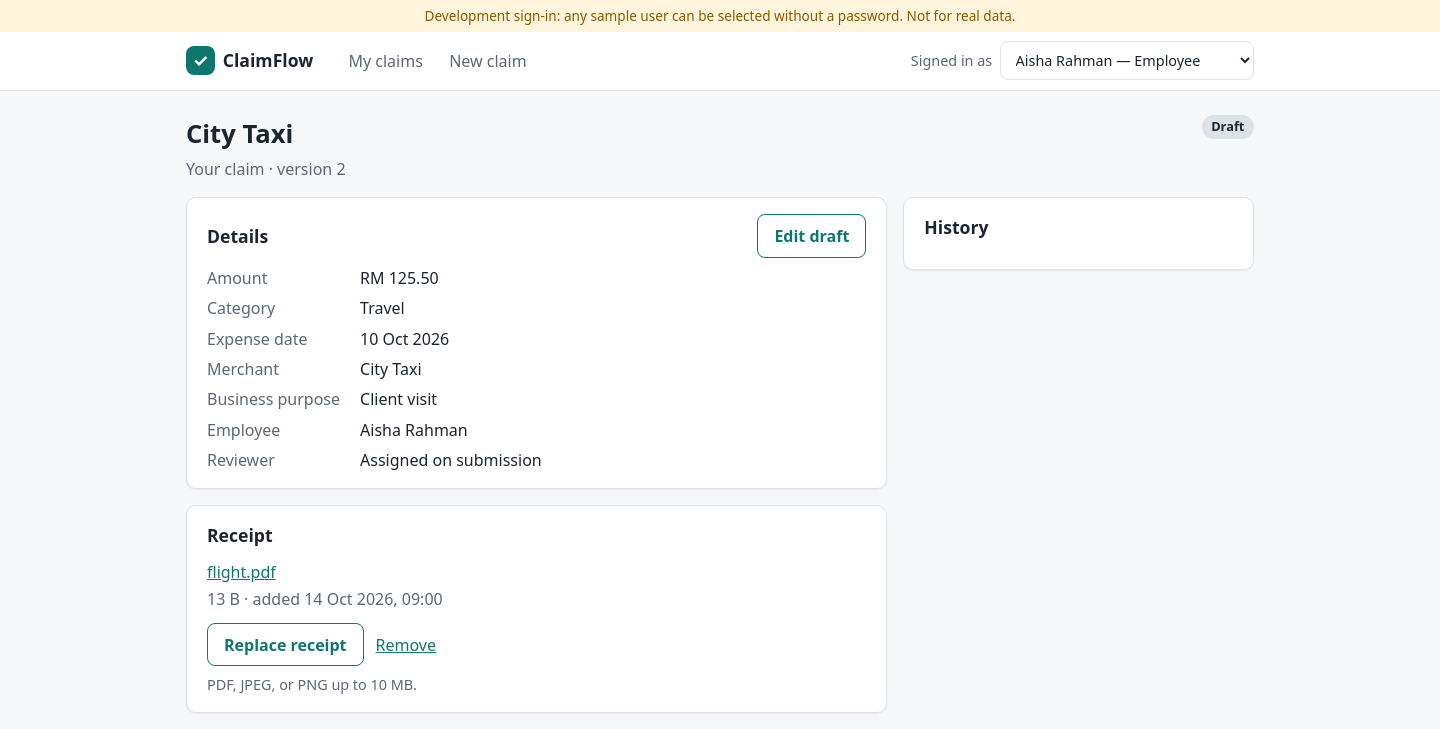
Scenario: receipts › removes a receipt after confirmation
Click the button "Remove": [406, 645] box [372,629,440,661]
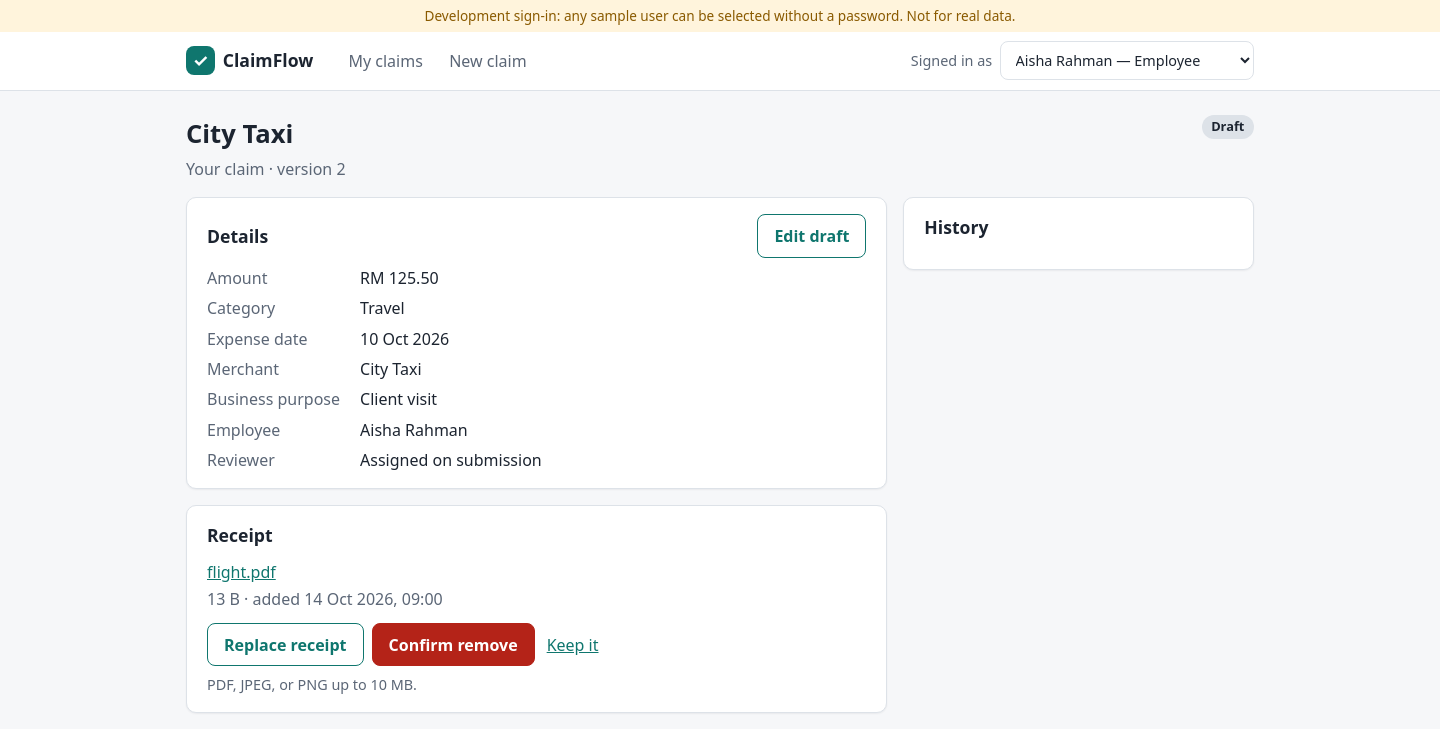
Click the button "Confirm remove": [453, 645] box [372,623,535,666]
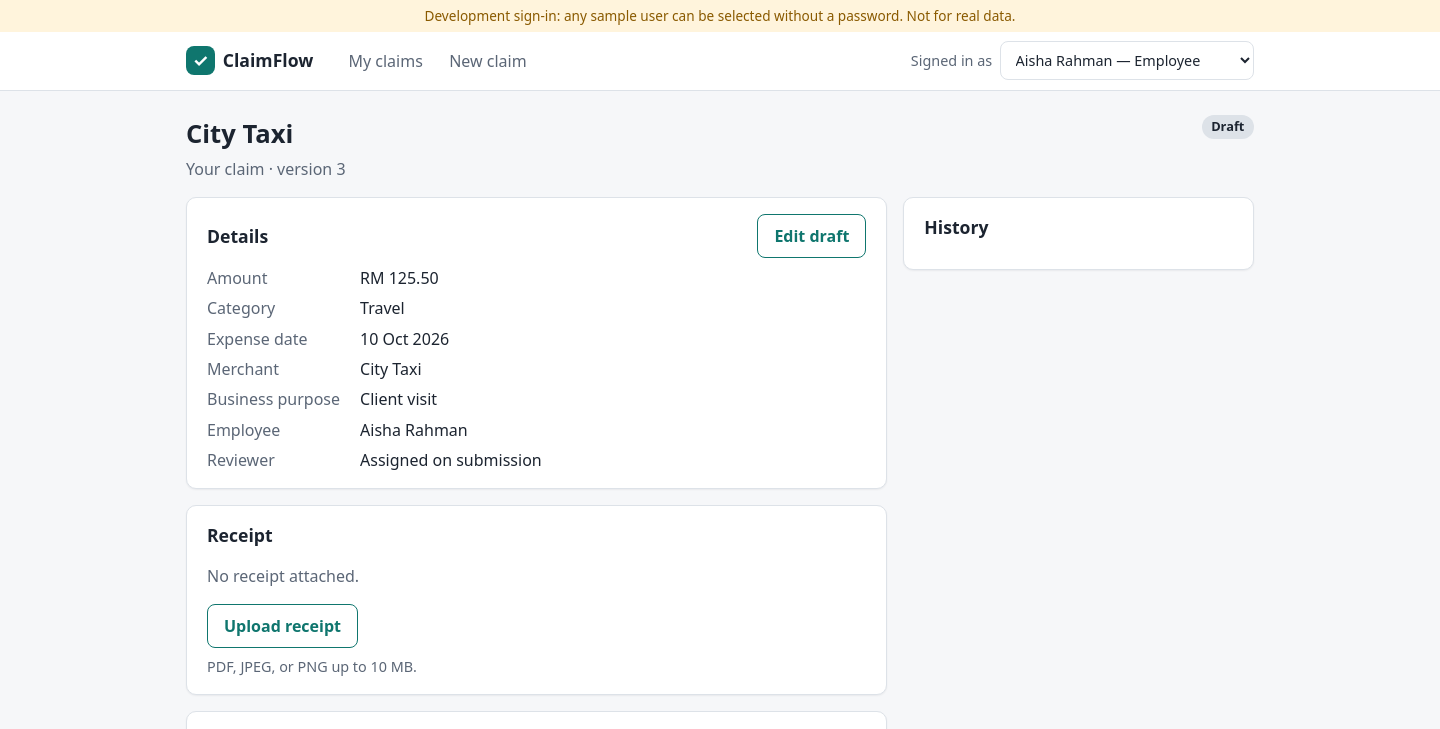
Check: the text "No receipt attached." is shown, box [207,566,359,588]
